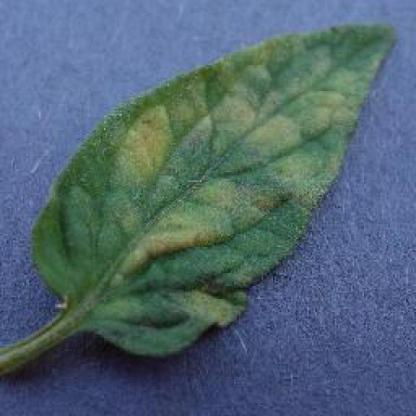Tomato_Leaf_Mold: (45, 25, 396, 337)
